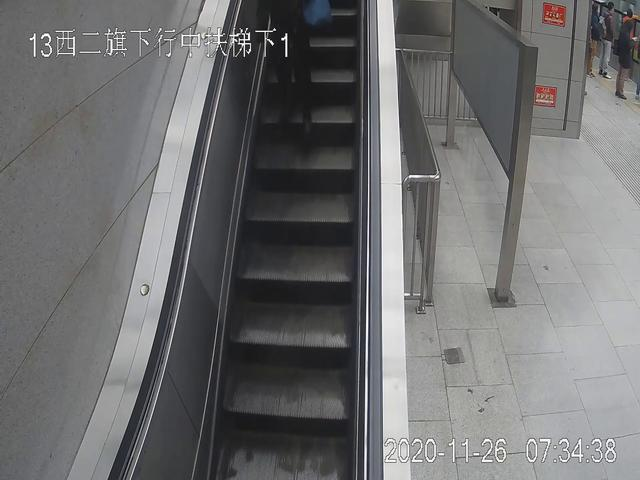person: (615, 18, 635, 99), (598, 2, 614, 78)
